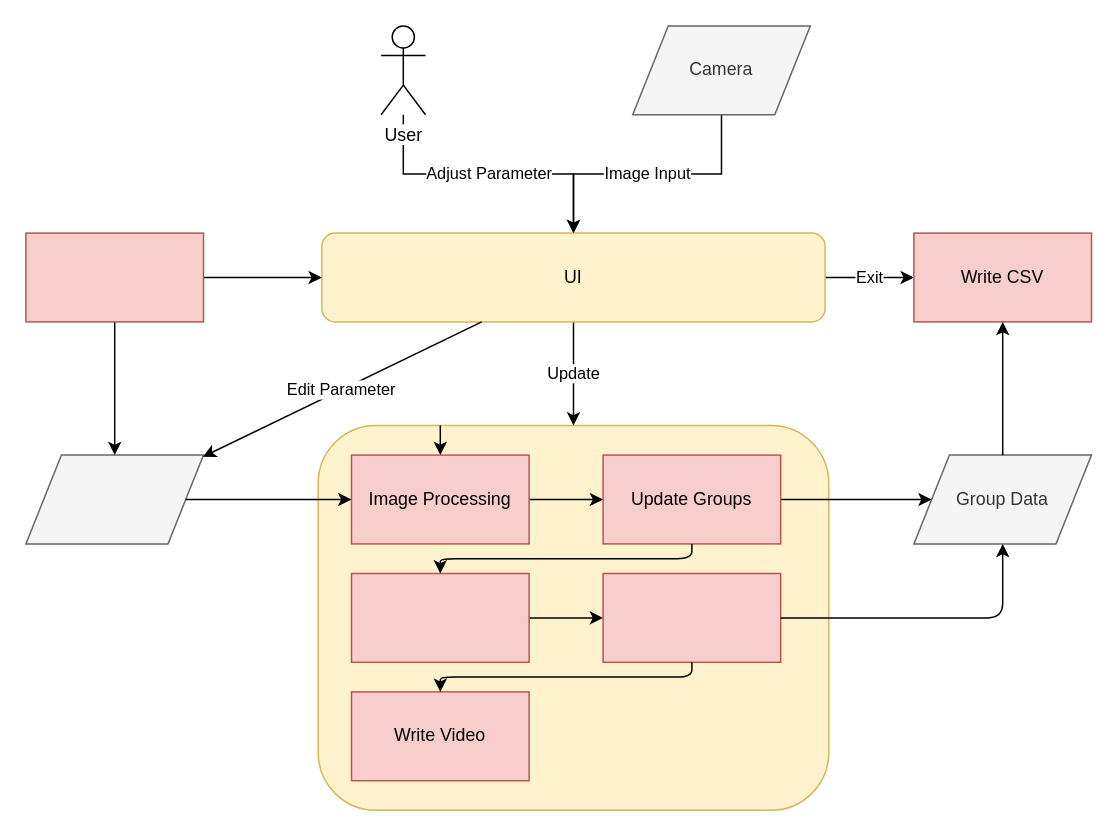
This 1117x836 diagram has some shape labels left out. Here are the shapes that lost their labels. From the top down, the centre of each, then its label:
At point (114, 277): "Initialization".
At point (114, 499): "Parameter".
At point (439, 617): "Paint Groups".
At point (691, 617): "Reset Per Frame".
